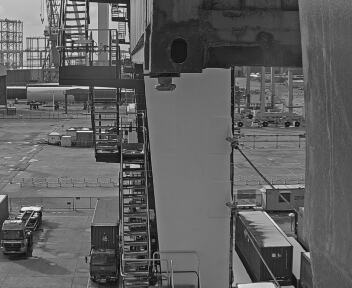twist_lock_1: (147, 68, 185, 99)
